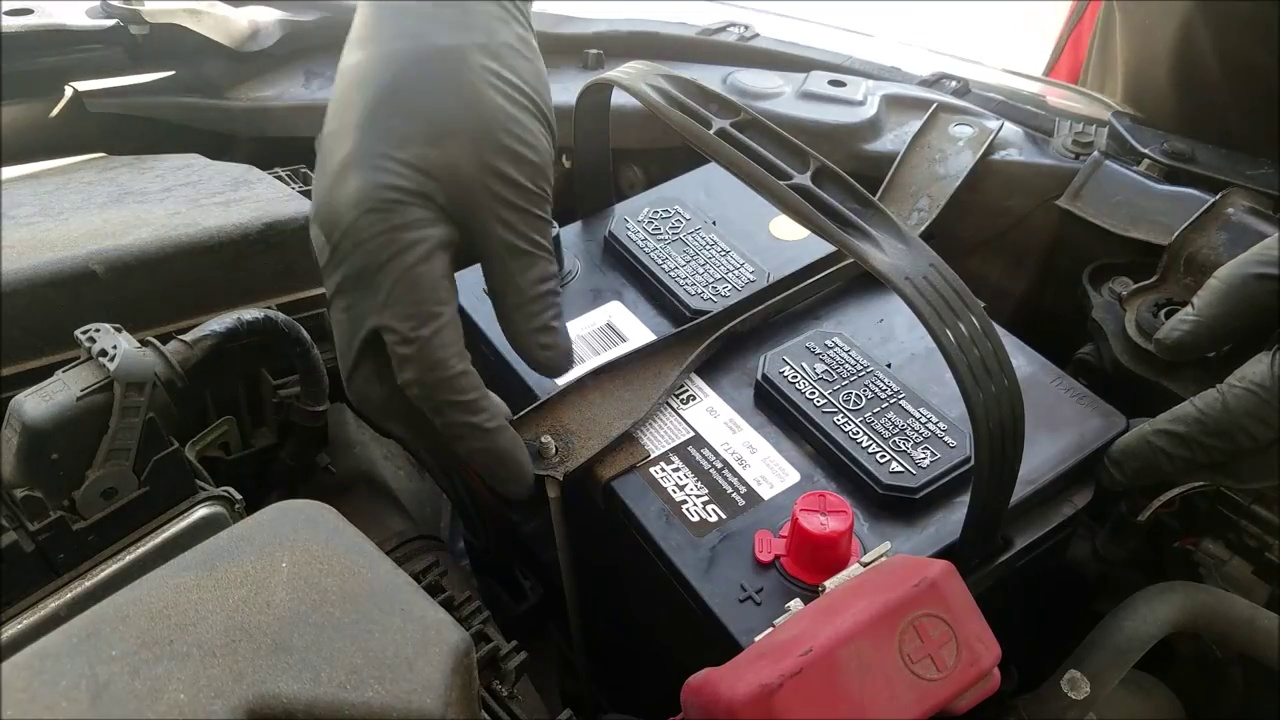battery: (413, 162, 1125, 625)
pos_disconnected: (700, 468, 960, 713)
